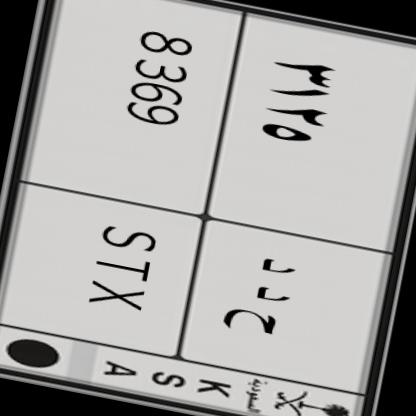english: (0, 0, 267, 370)
